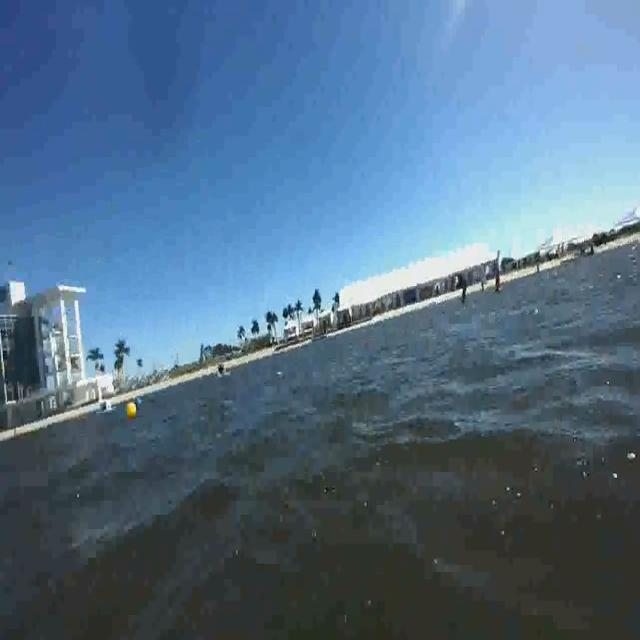yellow-buoy: (128, 402, 138, 420)
